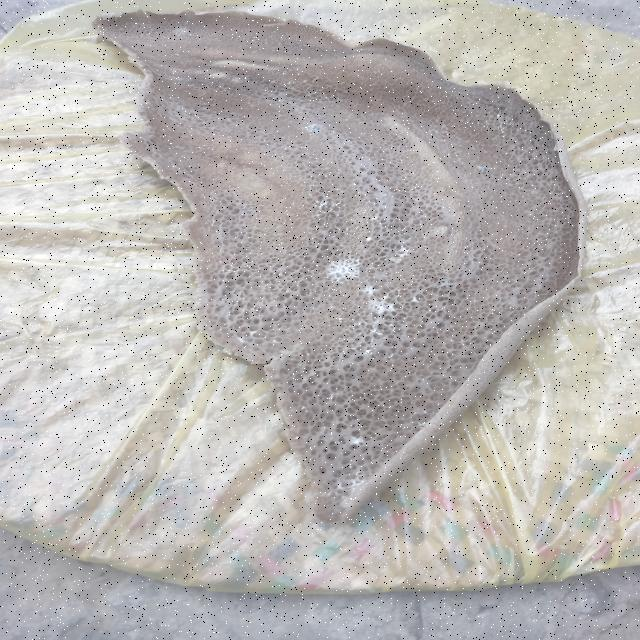injera_mold: (333, 467, 366, 505), (350, 318, 396, 344), (361, 284, 397, 316), (324, 255, 362, 284), (312, 195, 348, 220), (486, 108, 517, 135), (232, 328, 272, 346), (394, 242, 414, 260), (170, 25, 194, 40), (434, 275, 454, 290), (359, 345, 378, 359), (306, 122, 328, 133), (476, 162, 493, 175), (367, 212, 381, 227), (349, 433, 364, 446)
